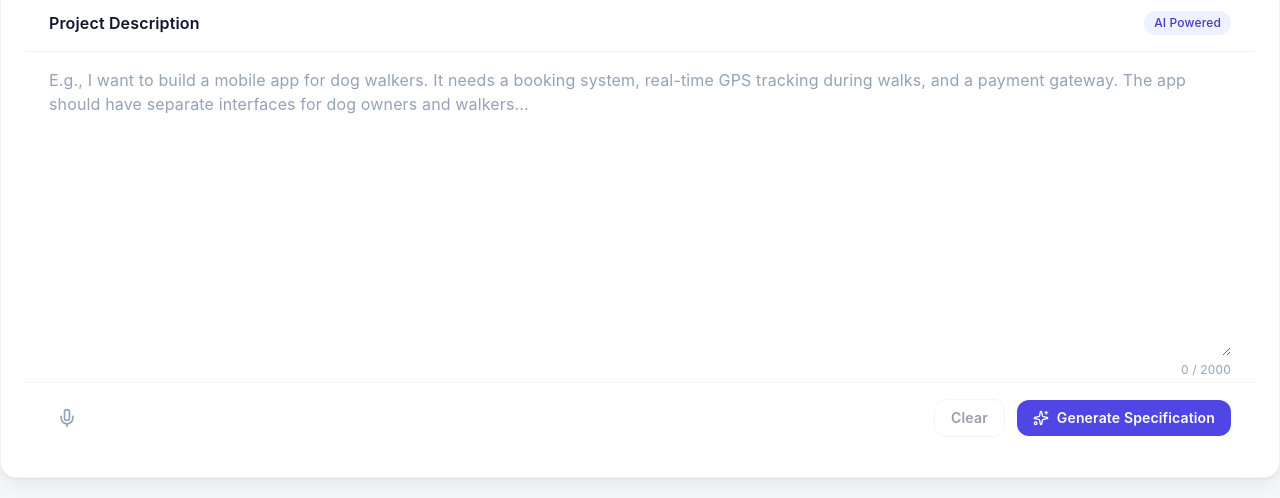
Test: voice input — failure handling › reports a recognition error without losing the dictated text
Click the button named "voice input": (67, 418) top-left (49, 400), bottom-right (85, 436)
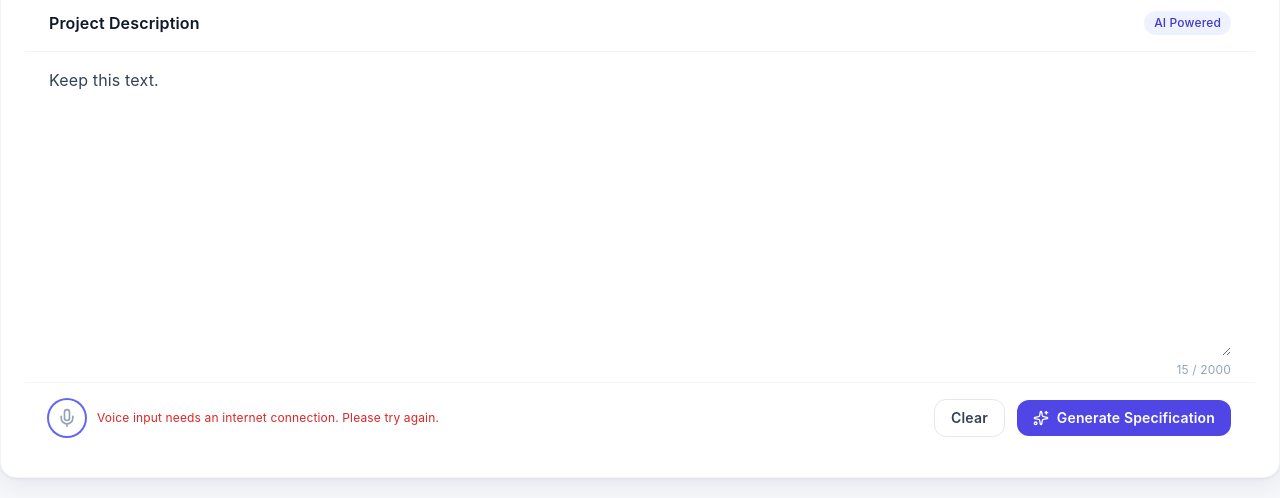
Result: the message shows "internet connection" at top-left (97, 410), bottom-right (439, 425)
Result: the text box named "describe your software idea" holds "Keep this text." at top-left (49, 68), bottom-right (1231, 356)
